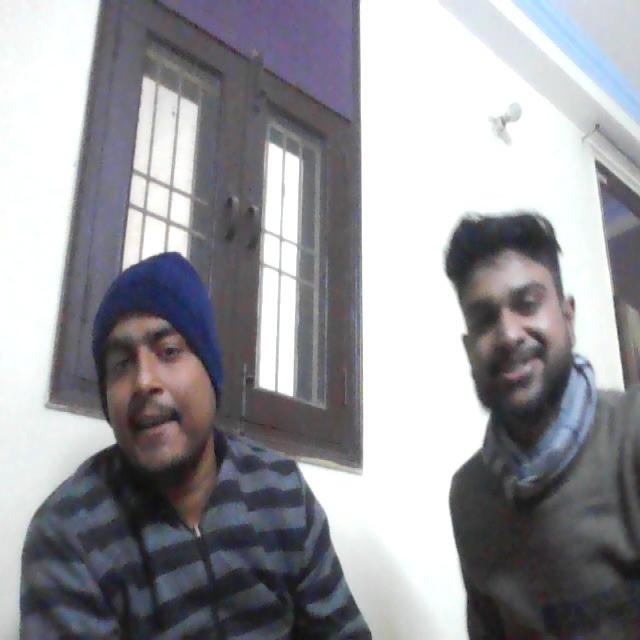real: (96, 255, 222, 492), (453, 191, 577, 425)
